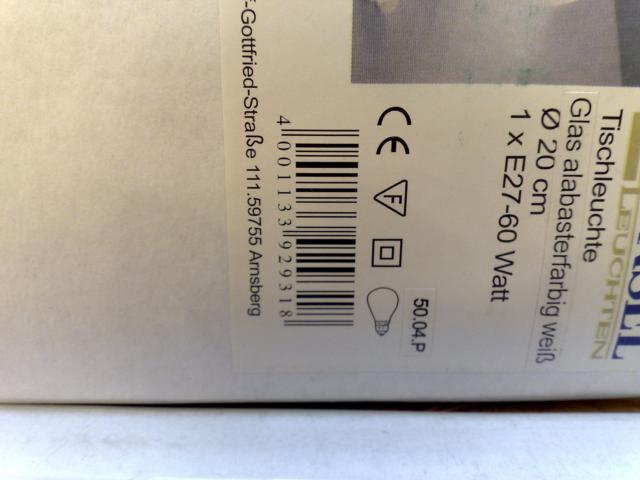Barkod: (294, 125, 358, 324)
